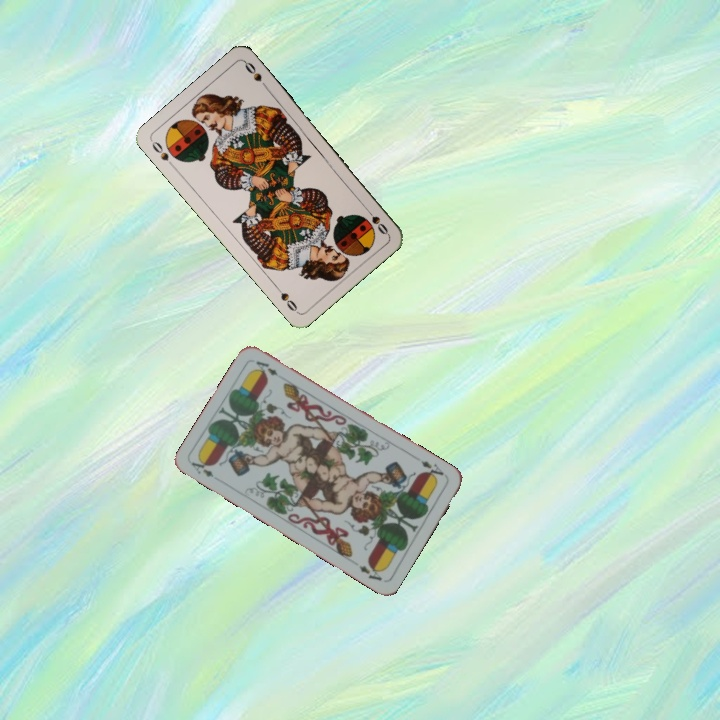EA: (417, 456, 446, 483), (187, 454, 216, 480)
SO: (361, 203, 391, 237), (148, 137, 178, 171)
